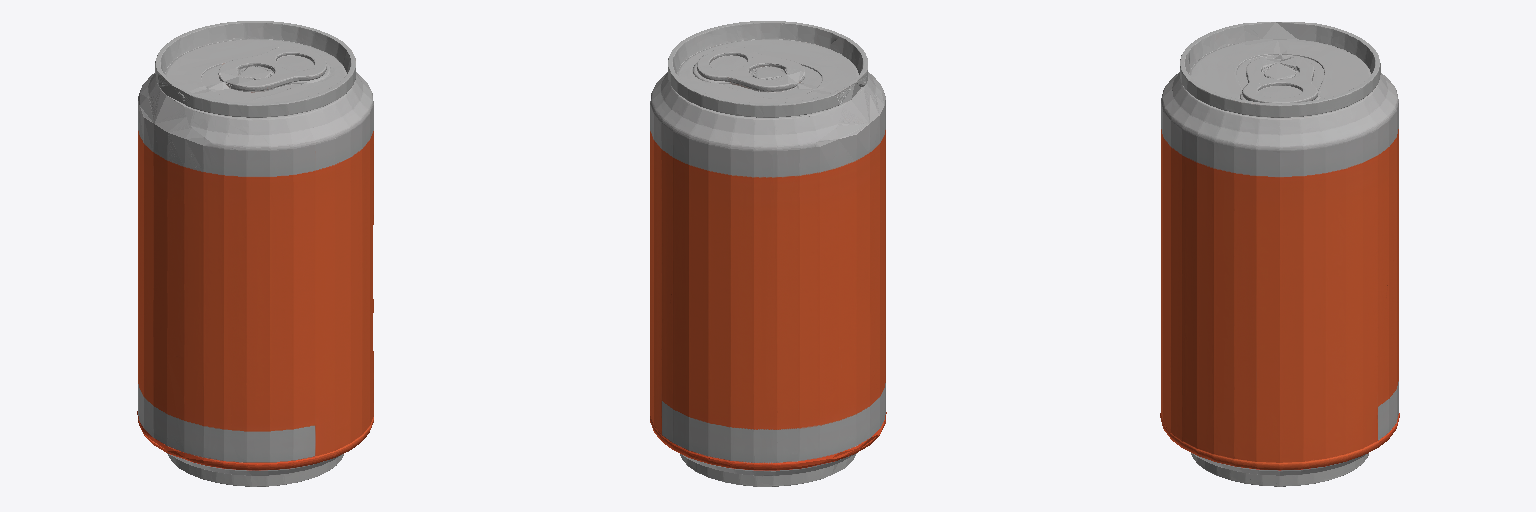
The picture shows the model from 3 angles: view 1: azimuth 30°, elevation 25°; view 2: azimuth 150°, elevation 25°; view 3: azimuth 270°, elevation 25°; orthographic projection.
Parts seen in each view (by area): view 1: texture_pbr_v128; view 2: texture_pbr_v128; view 3: texture_pbr_v128.
Part boxes in pixels (x1,y1,x2,y2): texture_pbr_v128: (137, 21, 373, 486); texture_pbr_v128: (650, 21, 886, 486); texture_pbr_v128: (1160, 22, 1399, 486).
Size of the model in its own units: 0.6055 by 1.09 by 0.6101.
Materials: 1 (1 with a texture image).